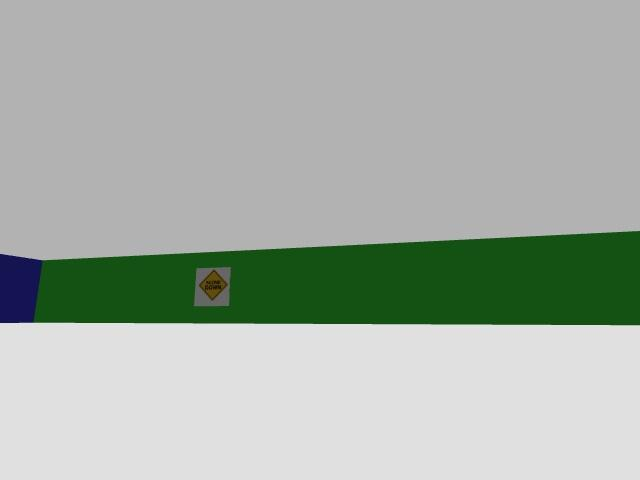slowsign: (194, 268, 230, 305)
